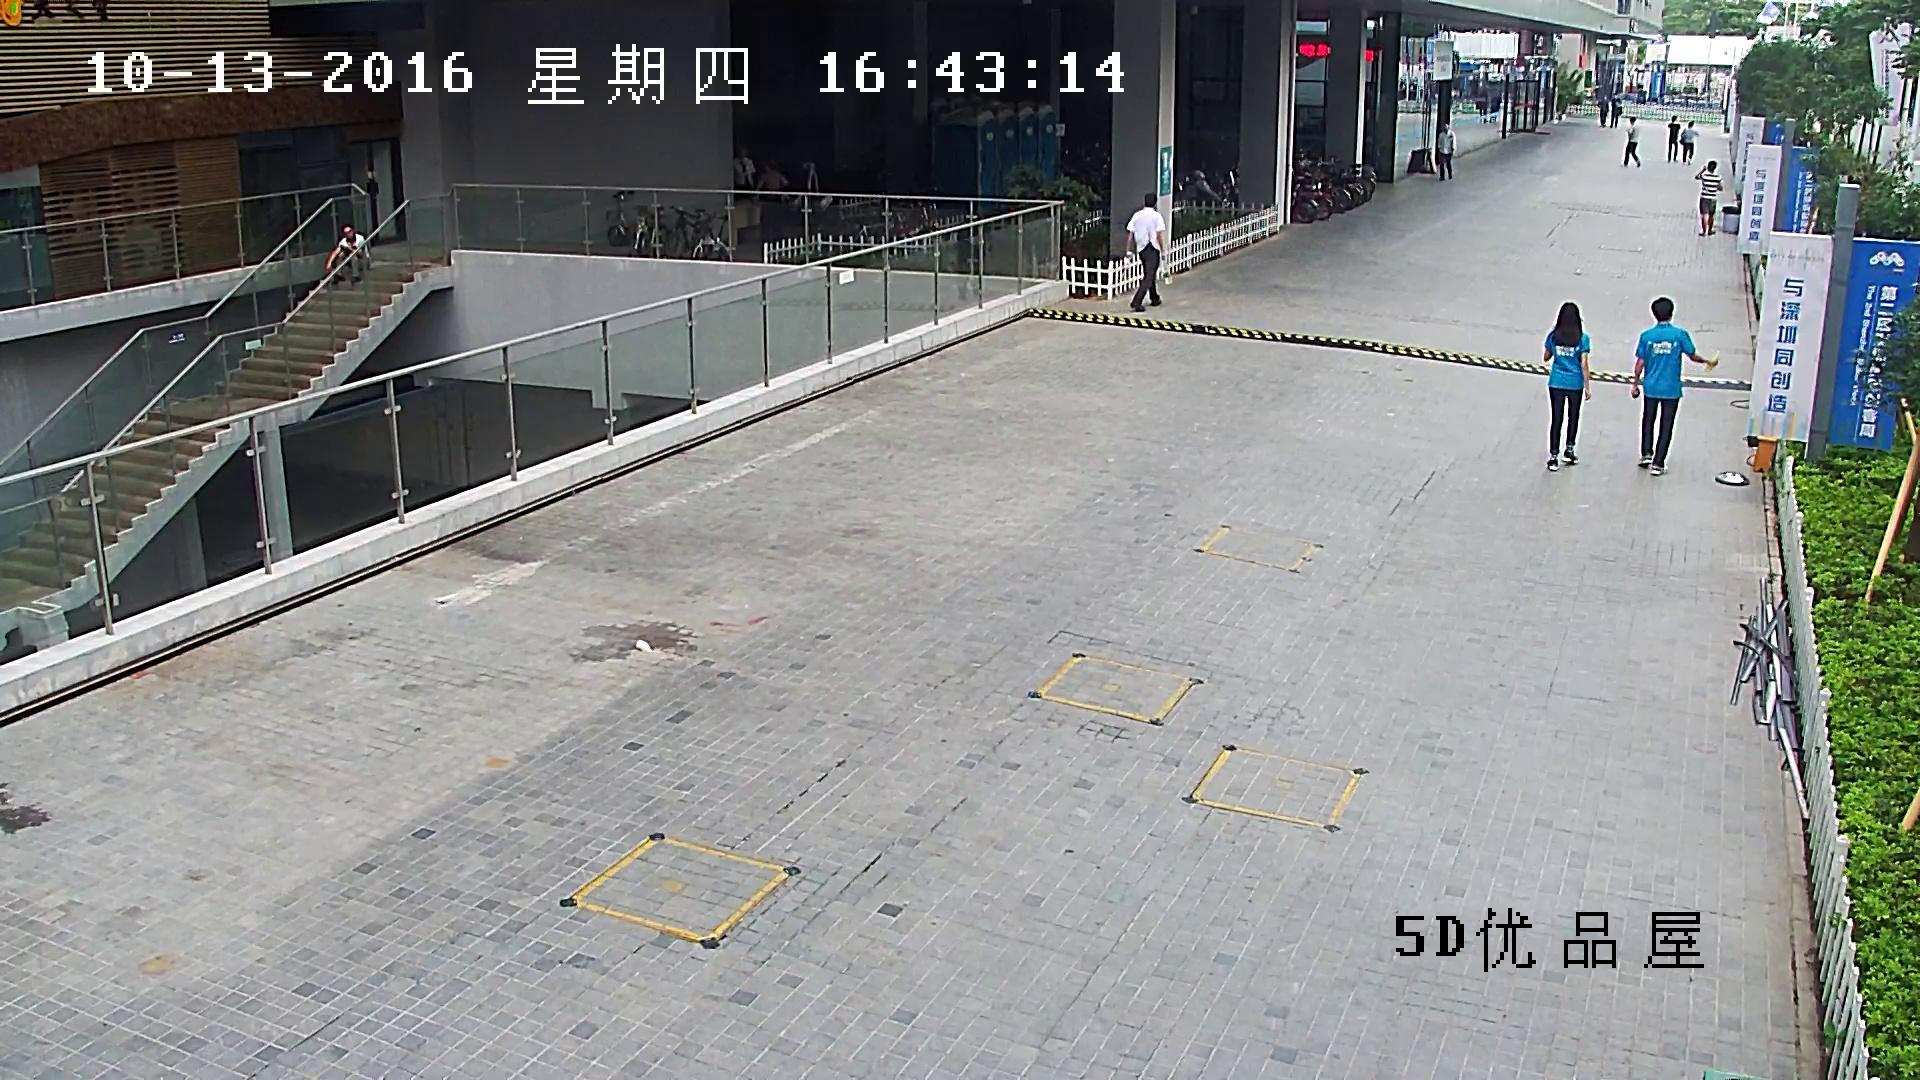person: (1631, 295, 1721, 475), (1543, 302, 1592, 473), (1125, 191, 1167, 312), (325, 223, 371, 283), (1694, 159, 1724, 236), (730, 143, 755, 201), (754, 160, 788, 201), (1437, 121, 1455, 182), (1679, 120, 1700, 166), (1622, 116, 1640, 166), (1667, 114, 1679, 162), (1609, 93, 1622, 128), (1597, 93, 1609, 128)
